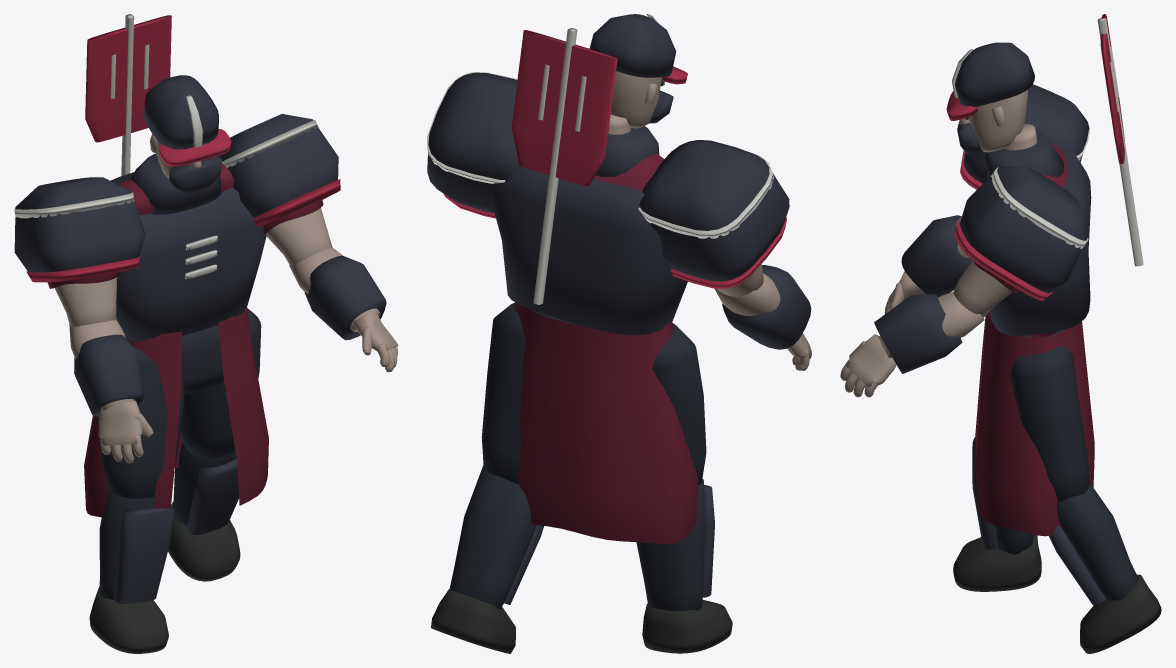
Rendered from enemy-lab-warlord.glb.
The picture shows the model from 3 angles, left to right: view 1: azimuth 30°, elevation 25°; view 2: azimuth 150°, elevation 25°; view 3: azimuth 270°, elevation 25°; orthographic projection. The views are drawn at different scales.
Visible parts, largest first — view 1: Command cuirass, Command coat tails, Command pauldron_-1, Command pauldron_1, Crimson command banner, Trouser thigh_L, Command greave_-1, Command bracer_1, Command bracer_-1, Command officer helmet, Trouser thigh_R, Shoe_L (+20 smaller); view 2: Command coat tails, Command cuirass, Command pauldron_-1, Crimson command banner, Command pauldron_1, Trouser shin_R, Trouser thigh_R, Trouser shin_L, Trouser thigh_L, Command officer helmet, Shoe_L, Command bracer_-1 (+12 smaller); view 3: Command coat tails, Command pauldron_1, Trouser thigh_R, Command cuirass, Trouser shin_R, Command bracer_1, Command officer helmet, Shoe_L, Command bracer_-1, Shoe_R, Command pauldron_-1, Anatomical head (+14 smaller).
Boxes of the visible parts, left/top/right/bottom form: Command cuirass: left=110, top=172, right=266, bottom=341; Command coat tails: left=84, top=307, right=268, bottom=517; Command pauldron_-1: left=14, top=177, right=145, bottom=272; Command pauldron_1: left=218, top=114, right=338, bottom=217; Crimson command banner: left=85, top=15, right=171, bottom=142; Trouser thigh_L: left=98, top=347, right=184, bottom=498; Command greave_-1: left=114, top=505, right=173, bottom=603; Command bracer_1: left=304, top=255, right=386, bottom=340; Command bracer_-1: left=74, top=334, right=144, bottom=416; Command officer helmet: left=143, top=75, right=218, bottom=149; Trouser thigh_R: left=180, top=308, right=261, bottom=458; Shoe_L: left=89, top=586, right=168, bottom=653; Command coat tails: left=514, top=302, right=697, bottom=543; Command cuirass: left=490, top=159, right=687, bottom=335; Command pauldron_-1: left=639, top=140, right=789, bottom=281; Crimson command banner: left=511, top=30, right=617, bottom=186; Command pauldron_1: left=427, top=72, right=517, bottom=213; Trouser shin_R: left=449, top=465, right=536, bottom=609; Trouser thigh_R: left=481, top=302, right=525, bottom=484; Trouser shin_L: left=636, top=479, right=704, bottom=611; Trouser thigh_L: left=652, top=323, right=706, bottom=485; Command officer helmet: left=589, top=14, right=676, bottom=77; Shoe_L: left=642, top=600, right=732, bottom=653; Command bracer_-1: left=722, top=265, right=811, bottom=349; Command coat tails: left=975, top=312, right=1094, bottom=536; Command pauldron_1: left=960, top=166, right=1087, bottom=292; Trouser thigh_R: left=1010, top=346, right=1089, bottom=502; Command cuirass: left=984, top=146, right=1091, bottom=335; Trouser shin_R: left=1056, top=482, right=1138, bottom=601; Command bracer_1: left=874, top=294, right=962, bottom=373; Command officer helmet: left=955, top=42, right=1034, bottom=107; Shoe_L: left=953, top=535, right=1041, bottom=591; Command bracer_-1: left=901, top=215, right=972, bottom=297; Shoe_R: left=1080, top=574, right=1161, bottom=653; Command pauldron_-1: left=963, top=84, right=1089, bottom=183; Anatomical head: left=969, top=90, right=1027, bottom=152.
Size of the model in its own units: 0.9975 by 1.83 by 0.9028.
